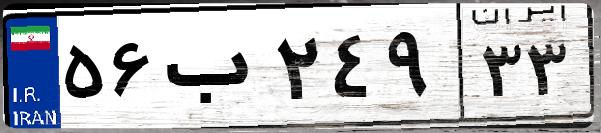2: (270, 28, 330, 110)
3: (475, 38, 525, 113), (525, 38, 570, 115)
4: (330, 28, 385, 110)
5: (57, 26, 110, 100)
6: (110, 28, 158, 98)
9: (385, 28, 445, 110)
ب: (158, 20, 270, 120)
